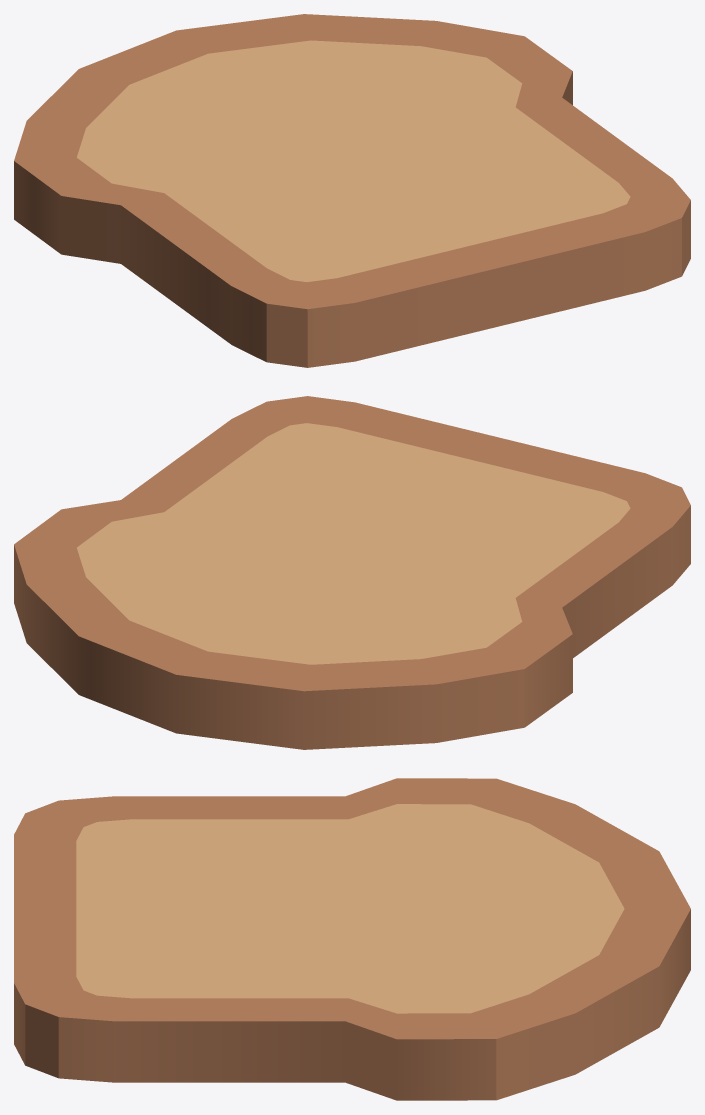
File: Bread_Tost.FBX
The picture shows the model from 3 angles, top to bottom: view 1: azimuth 30°, elevation 25°; view 2: azimuth 150°, elevation 25°; view 3: azimuth 270°, elevation 25°; orthographic projection. The views are drawn at different scales.
Visible parts, largest first — view 1: Bread_Tost; view 2: Bread_Tost; view 3: Bread_Tost.
Part boxes in pixels (bbox=[...]): Bread_Tost: bbox=[14, 14, 690, 367]; Bread_Tost: bbox=[14, 396, 690, 749]; Bread_Tost: bbox=[14, 778, 690, 1100].
Bounding box in the file's own units: 9.12 × 10 × 1.
